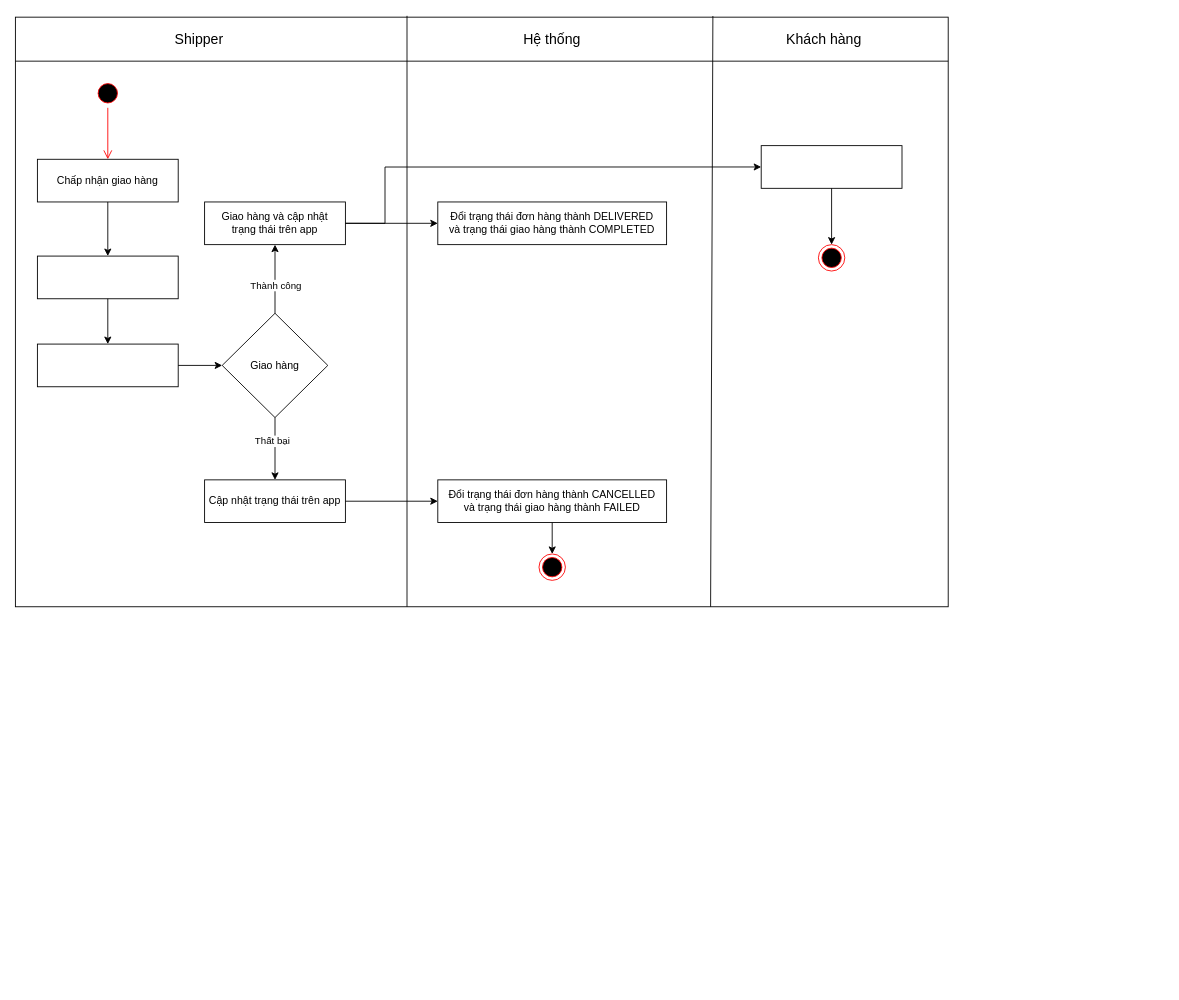
Image size: 1179x1000. Some labels were removed from this diagram. The shapes that lost their labels are listed below. From the top down, each one's centre as x and y in pixels, then its label:
At (831,166): "Khách nhận hàng và thanh toán".
At (107,277): "Đến nhà hàng nhận món ăn".
At (107,365): "Di chuyển đến nhà khách".
